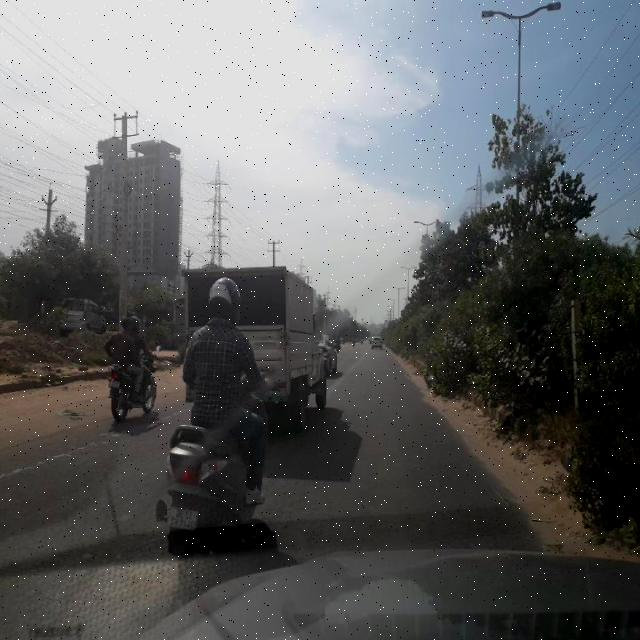D20: (281, 418, 524, 546)
D44: (3, 422, 157, 475)
